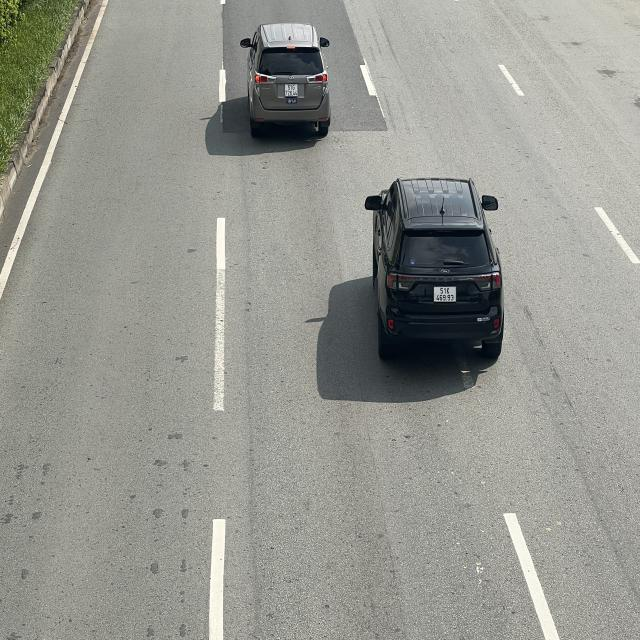car: (364, 176, 505, 361), (241, 21, 334, 138)
